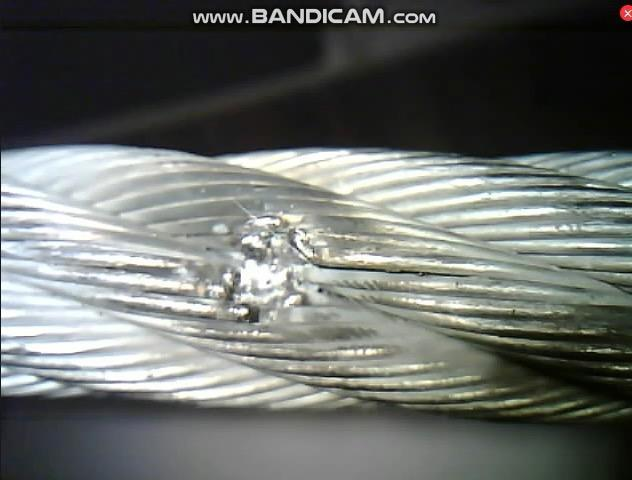thunderbolt: (190, 198, 344, 332)
